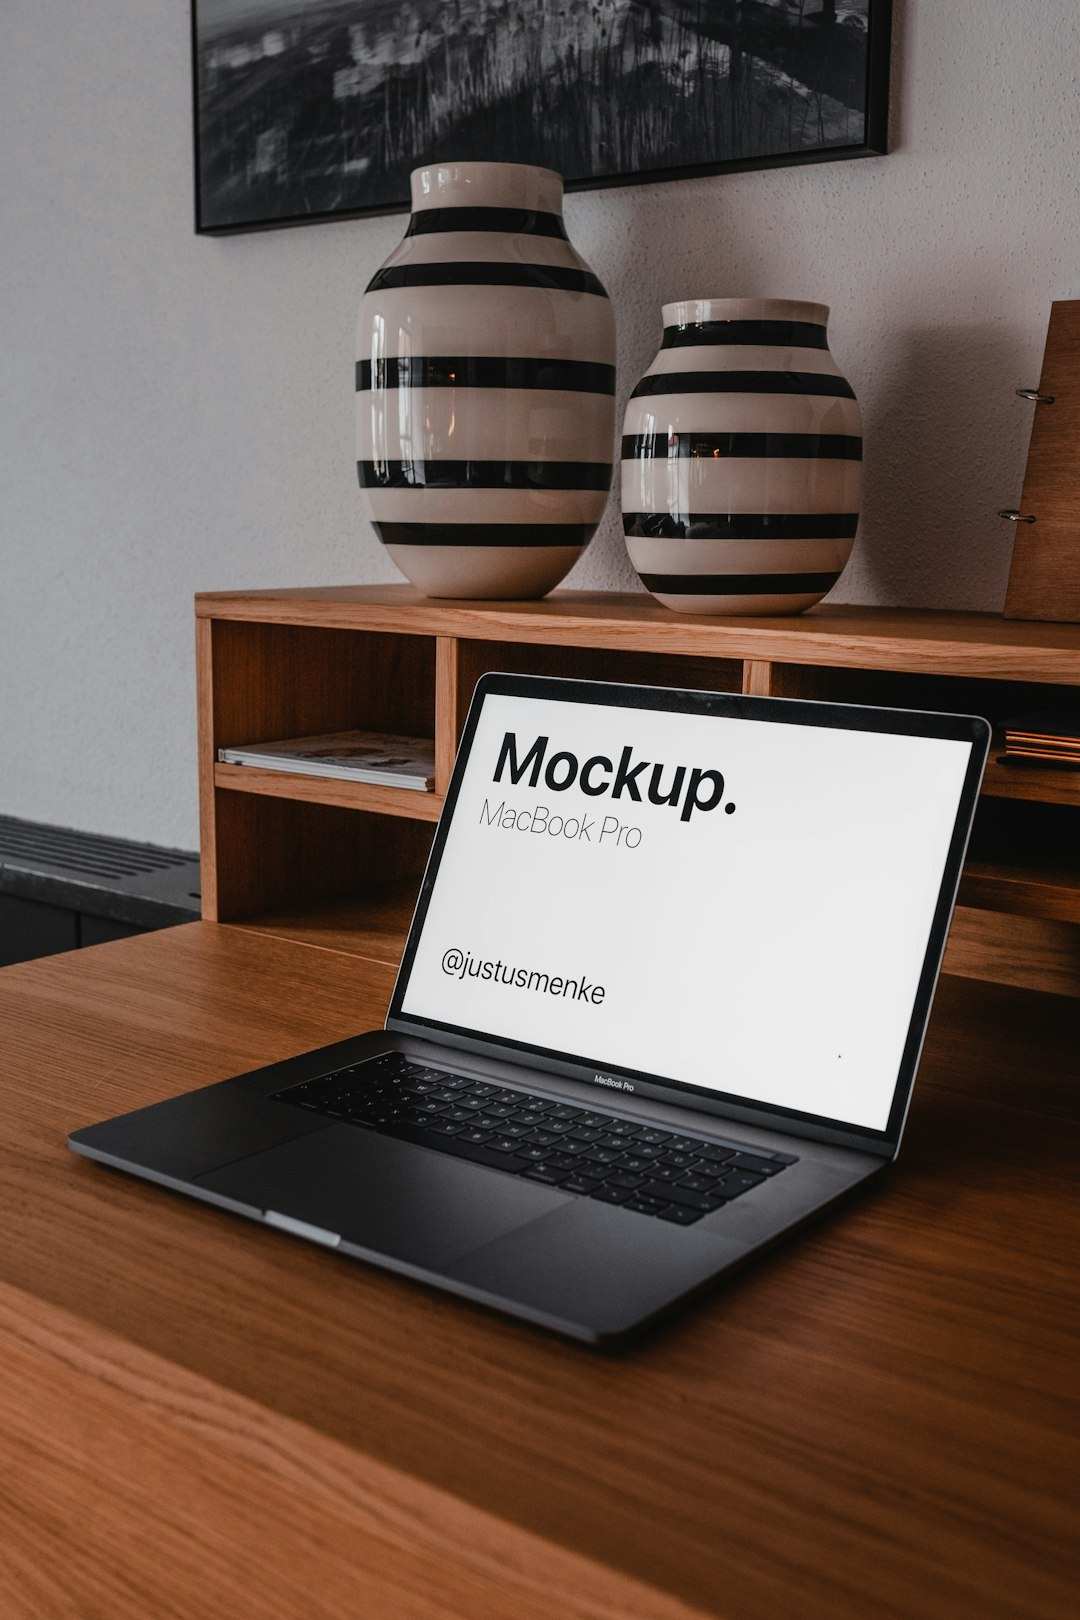laptop: (43, 601, 1040, 1395)
